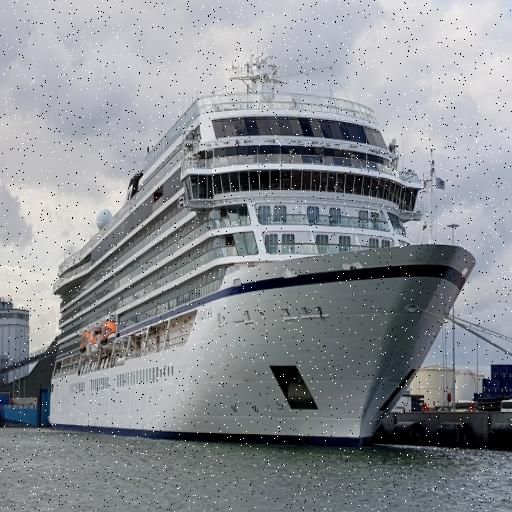cruises: (45, 41, 478, 474)
